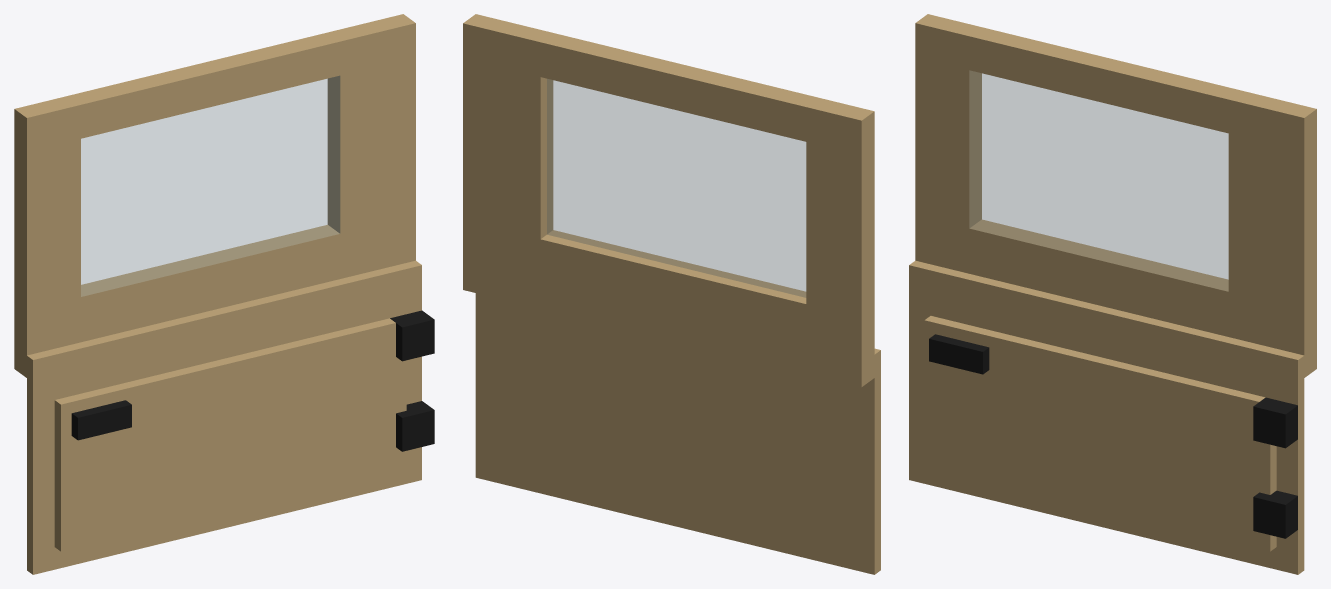
The model's file is light_tactical_vehicle_rear_door.glb.
3 renders of one model, left to right at view 1: azimuth 30°, elevation 25°; view 2: azimuth 150°, elevation 25°; view 3: azimuth 330°, elevation 25°, orthographic. The views are drawn at different scales.
Parts seen in each view (by area): view 1: body:compound; view 2: body:compound; view 3: body:compound.
Boxes of the visible parts, <box> form: body:compound: <box>14,14,434,574</box>; body:compound: <box>463,14,880,574</box>; body:compound: <box>909,14,1316,574</box>.
Bounding box in the file's own units: 1.12 × 1.25 × 0.1562.
